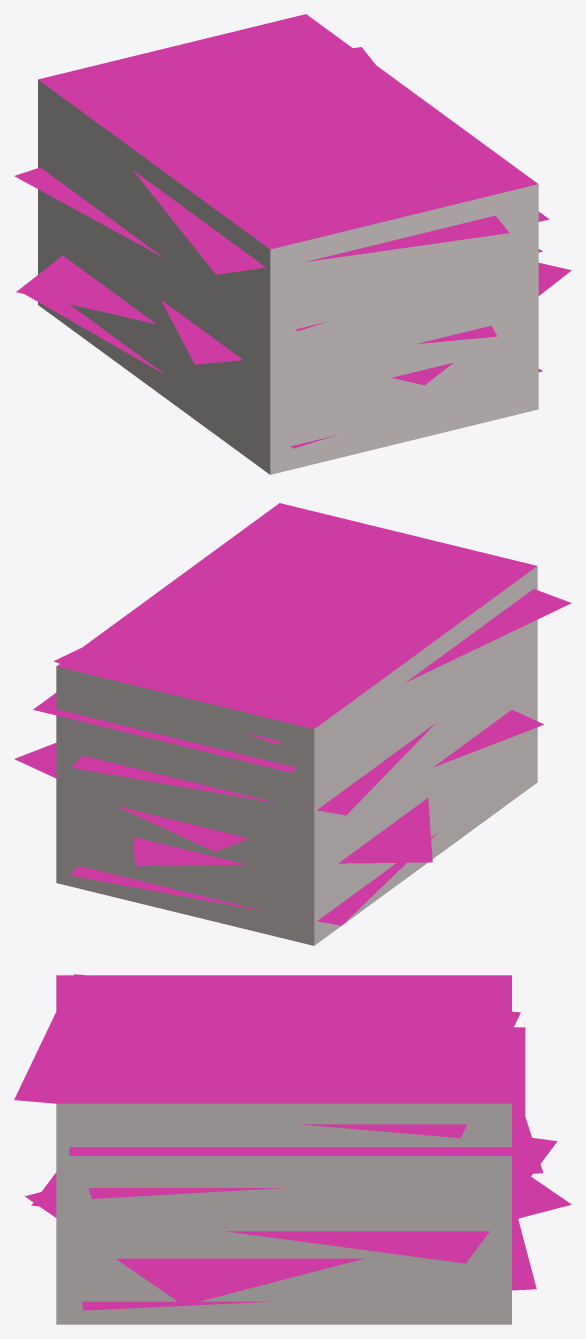
The model's file is PaperPile.fbx.
The picture shows the model from 3 angles, top to bottom: view 1: azimuth 30°, elevation 25°; view 2: azimuth 150°, elevation 25°; view 3: azimuth 270°, elevation 25°; orthographic projection. The views are drawn at different scales.
Parts seen in each view (by area): view 1: Paper pile; view 2: Paper pile; view 3: Paper pile.
Boxes of the visible parts, x1,y1,x2,y2 form: Paper pile: (14,14,571,474); Paper pile: (14,503,571,945); Paper pile: (14,974,571,1324).
Size of the model in its own units: 32.76 by 16.06 by 36.73.
